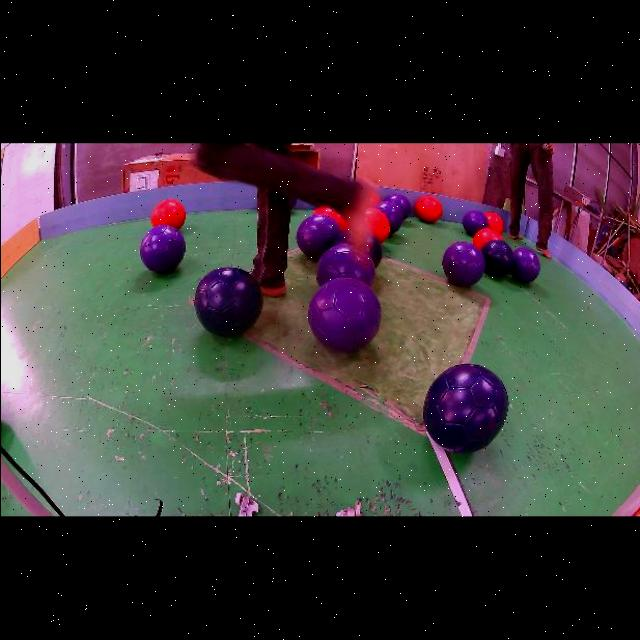B: (424, 362, 508, 452), (192, 266, 263, 335), (481, 237, 515, 275)
P: (307, 276, 381, 350), (316, 243, 374, 284), (139, 223, 185, 271), (295, 213, 341, 258), (442, 240, 485, 285), (511, 245, 541, 280), (373, 200, 403, 233), (383, 192, 412, 218), (463, 208, 489, 235)
R: (151, 197, 185, 228), (364, 206, 390, 241), (313, 204, 348, 228), (416, 195, 442, 221), (473, 227, 502, 248), (485, 210, 503, 232)
